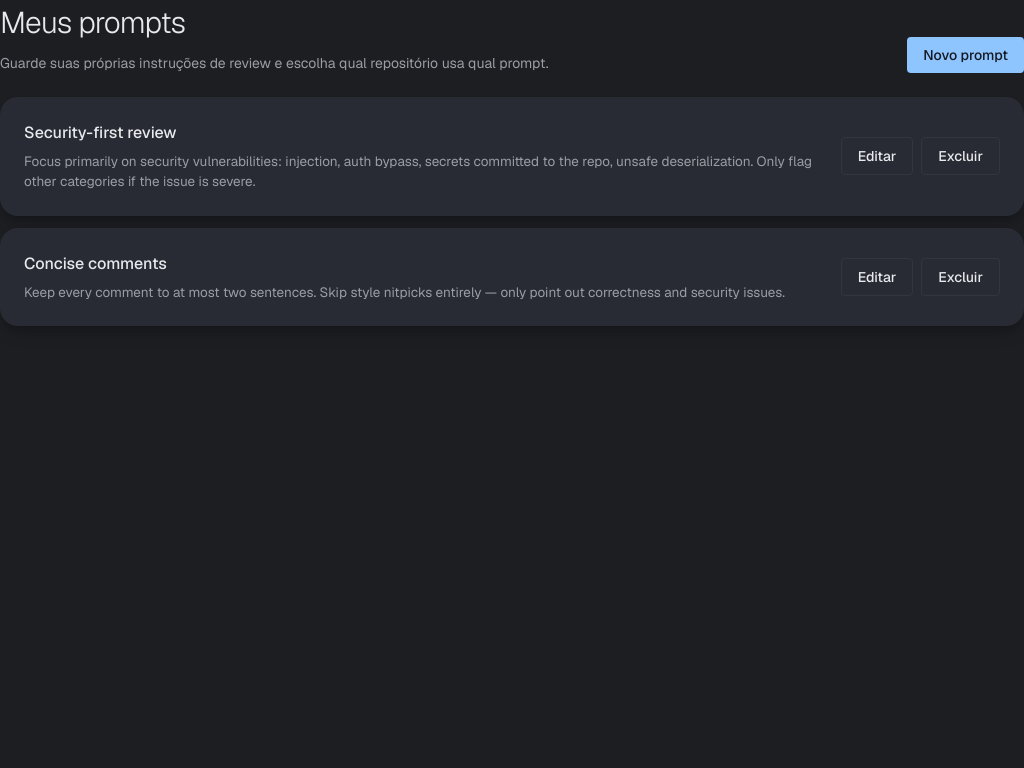
PromptsPage › 'Excluir' opens the delete confirmation, and confirming removes the prompt from the list
Expected: the text "Concise comments" is shown, [24,252,167,274]
Click the button "Excluir" in the row of "Concise comments" at point(961, 277), box [921,258,1000,296]
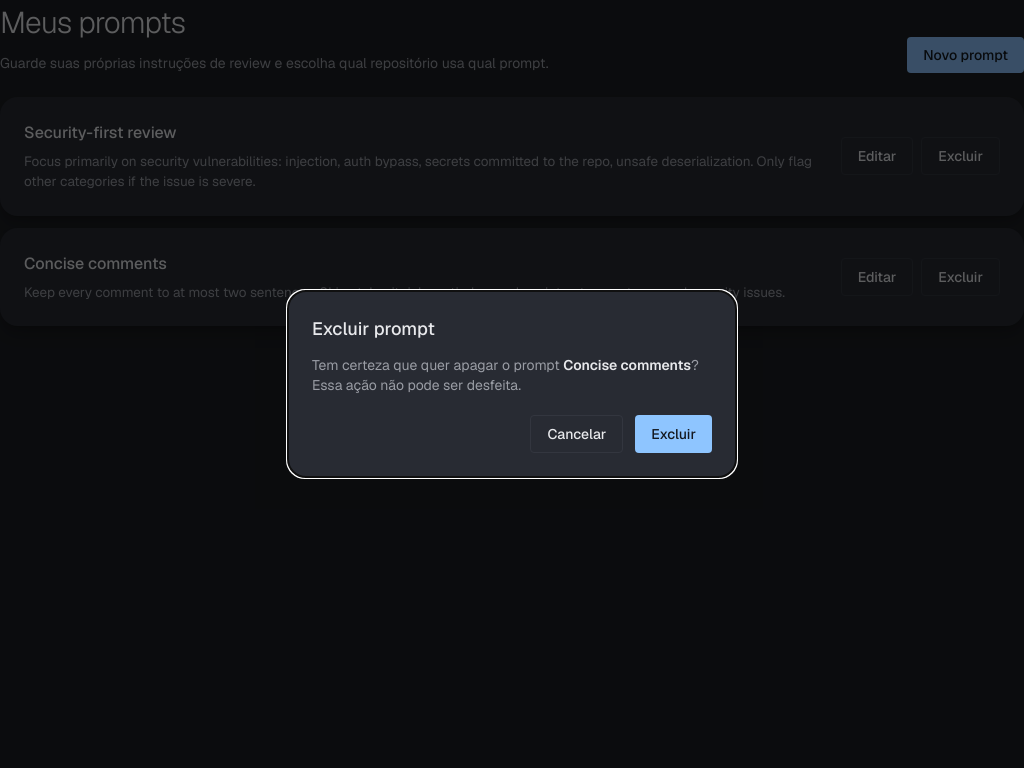
Now the text "Tem certeza que quer apagar o prompt" is shown, box [312,356,563,374]
Now the text "Concise comments" is shown, box [563,356,691,374]
Click the button "Excluir" at point(674, 434), box [635,415,712,453]
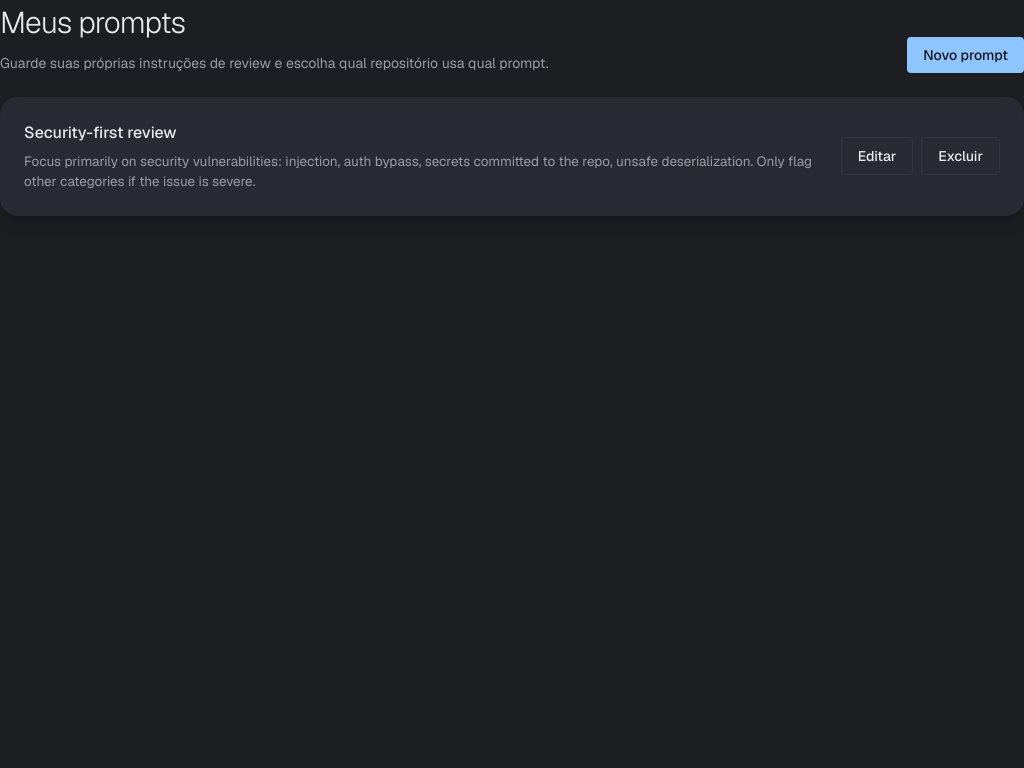
Now the dialog is gone
Now the text "Concise comments" is gone
Now the number of buttons "Editar" is 1, box [841,137,913,175]
